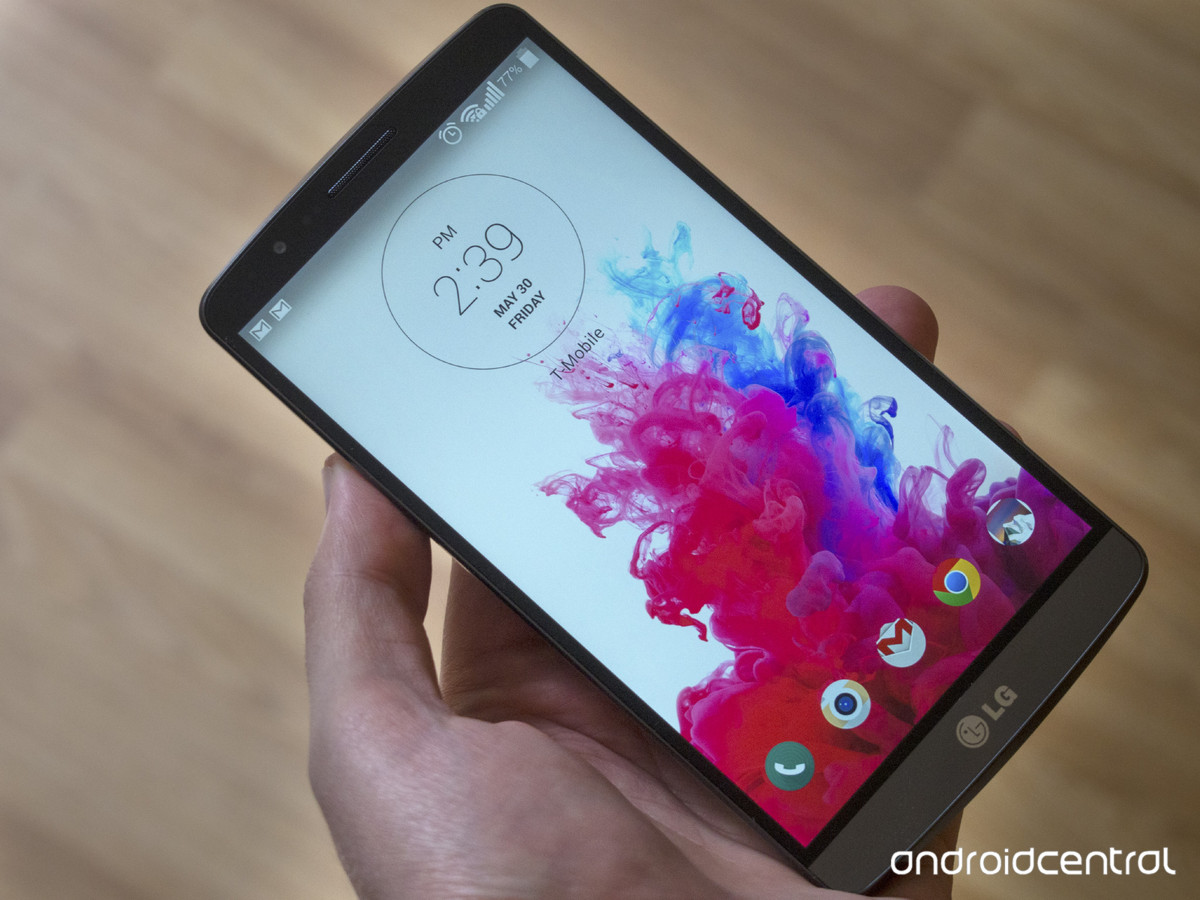smartphone: (197, 2, 1148, 894)
